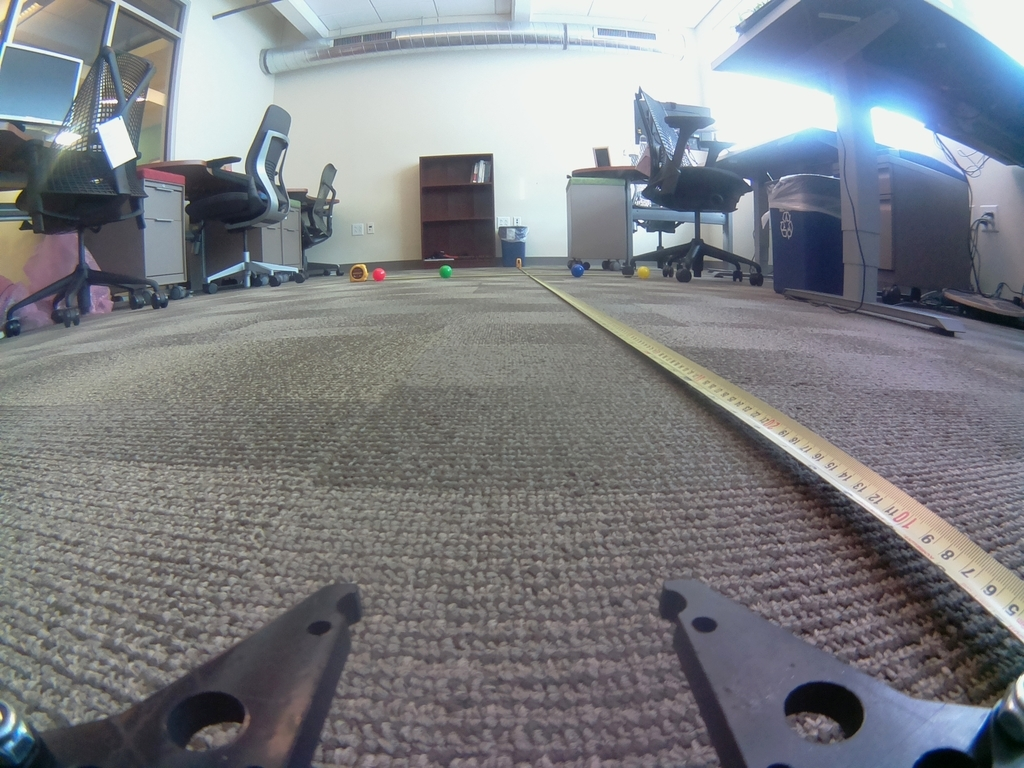ball: (371, 266, 385, 280)
